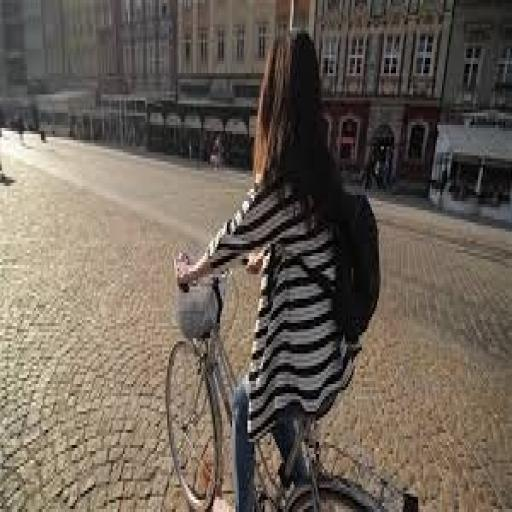cycling: (172, 24, 384, 509)
